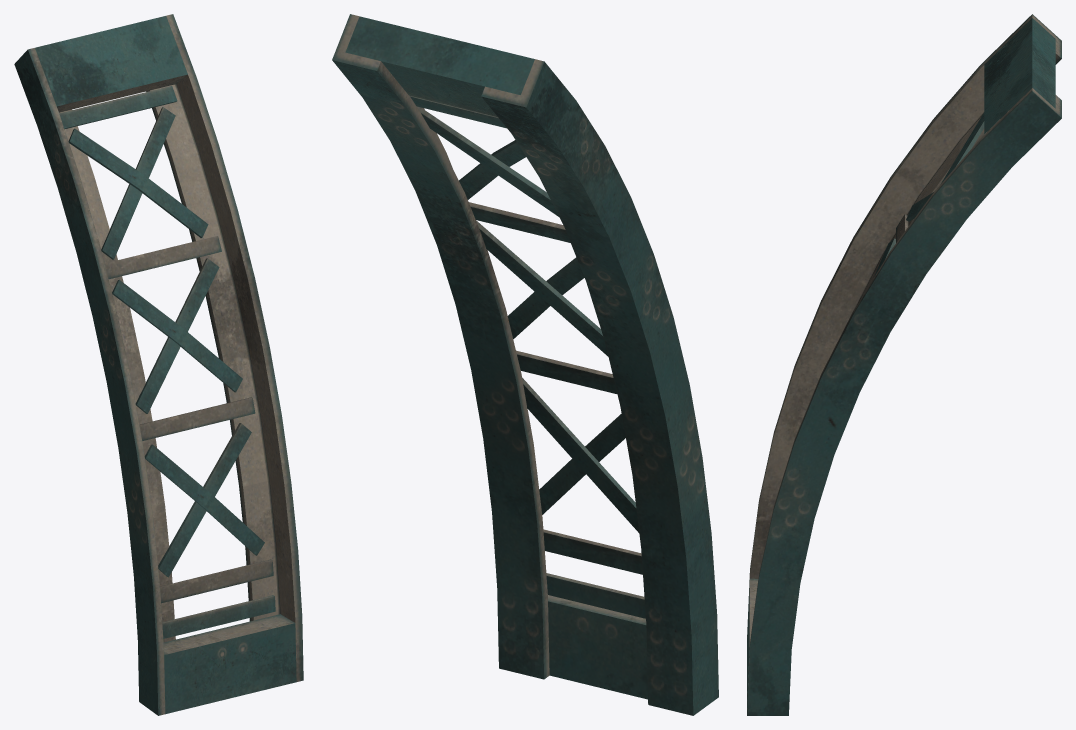
Rendered from SM_PillarFrameFront4mBend45.FBX.
3 views of the same model, side by side, from view 1: azimuth 30°, elevation 25°; view 2: azimuth 150°, elevation 25°; view 3: azimuth 270°, elevation 25° (orthographic). The views are drawn at different scales.
Visible parts, largest first — view 1: SM_PillarFrameFront4mBend45; view 2: SM_PillarFrameFront4mBend45; view 3: SM_PillarFrameFront4mBend45.
Part boxes in pixels (x1,y1,x2,y2): SM_PillarFrameFront4mBend45: [14, 14, 303, 715]; SM_PillarFrameFront4mBend45: [332, 14, 718, 715]; SM_PillarFrameFront4mBend45: [747, 14, 1061, 715].
Size of the model in its own units: 100 by 172 by 376.
